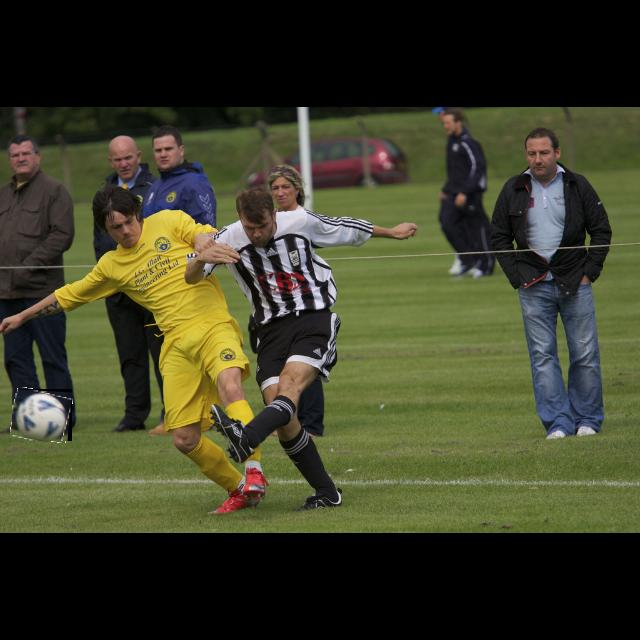Football: (12, 389, 72, 441)
